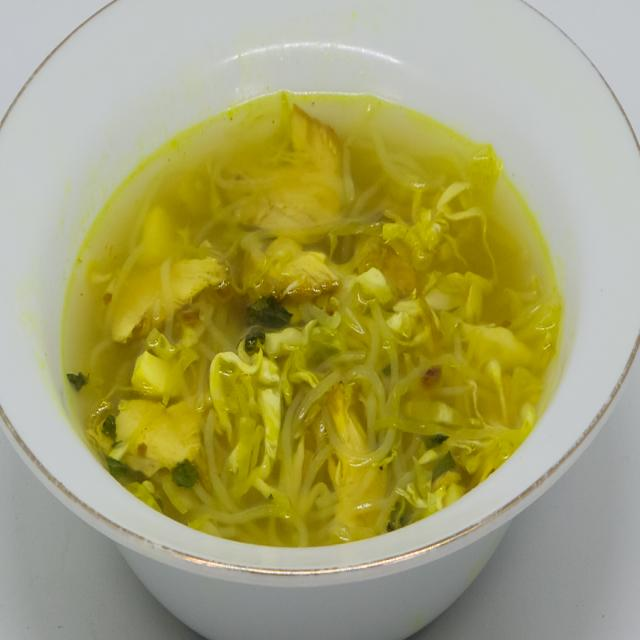Soto-Lamongan: (54, 57, 574, 565)
